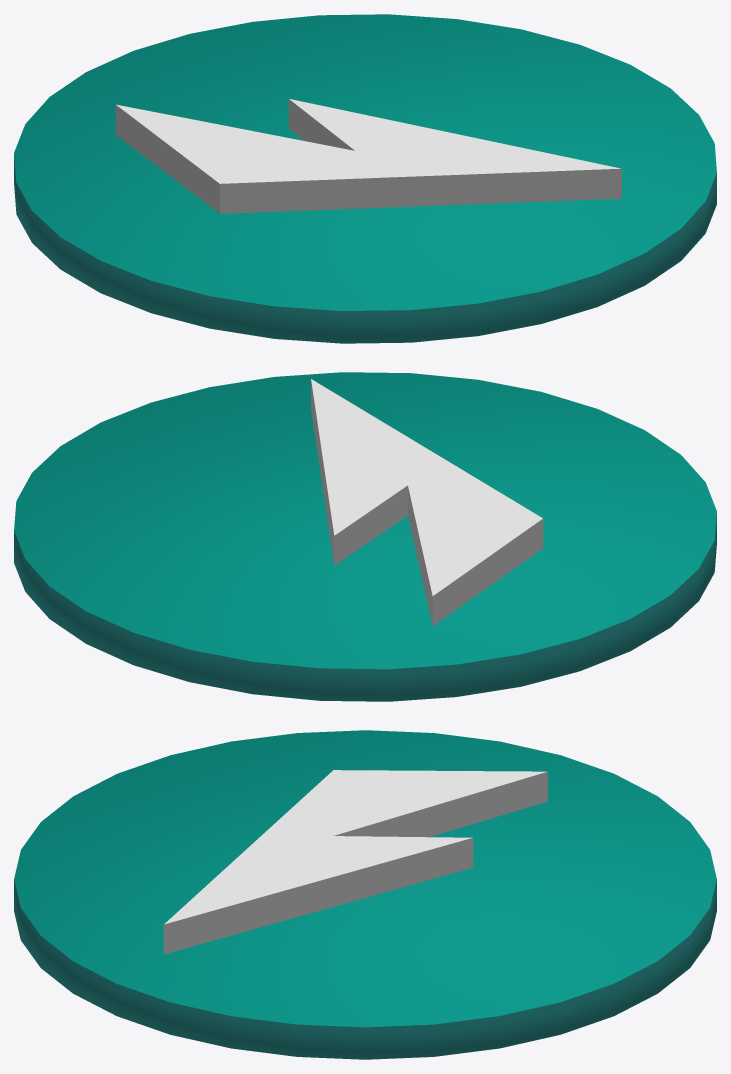
Rendered from fastapi_icon.glb.
The picture shows the model from 3 angles, top to bottom: view 1: azimuth 30°, elevation 25°; view 2: azimuth 150°, elevation 25°; view 3: azimuth 270°, elevation 25°; orthographic projection.
Parts seen in each view (by area): view 1: Cilindro, BézierCurve; view 2: Cilindro, BézierCurve; view 3: Cilindro, BézierCurve.
Part boxes in pixels (x1,y1,x2,y2): Cilindro: [14, 14, 716, 343]; BézierCurve: [115, 99, 621, 213]; Cilindro: [14, 372, 716, 701]; BézierCurve: [311, 379, 543, 625]; Cilindro: [14, 730, 716, 1059]; BézierCurve: [163, 770, 547, 954].
Bounding box in the file's own units: 2 × 0.1958 × 2.
